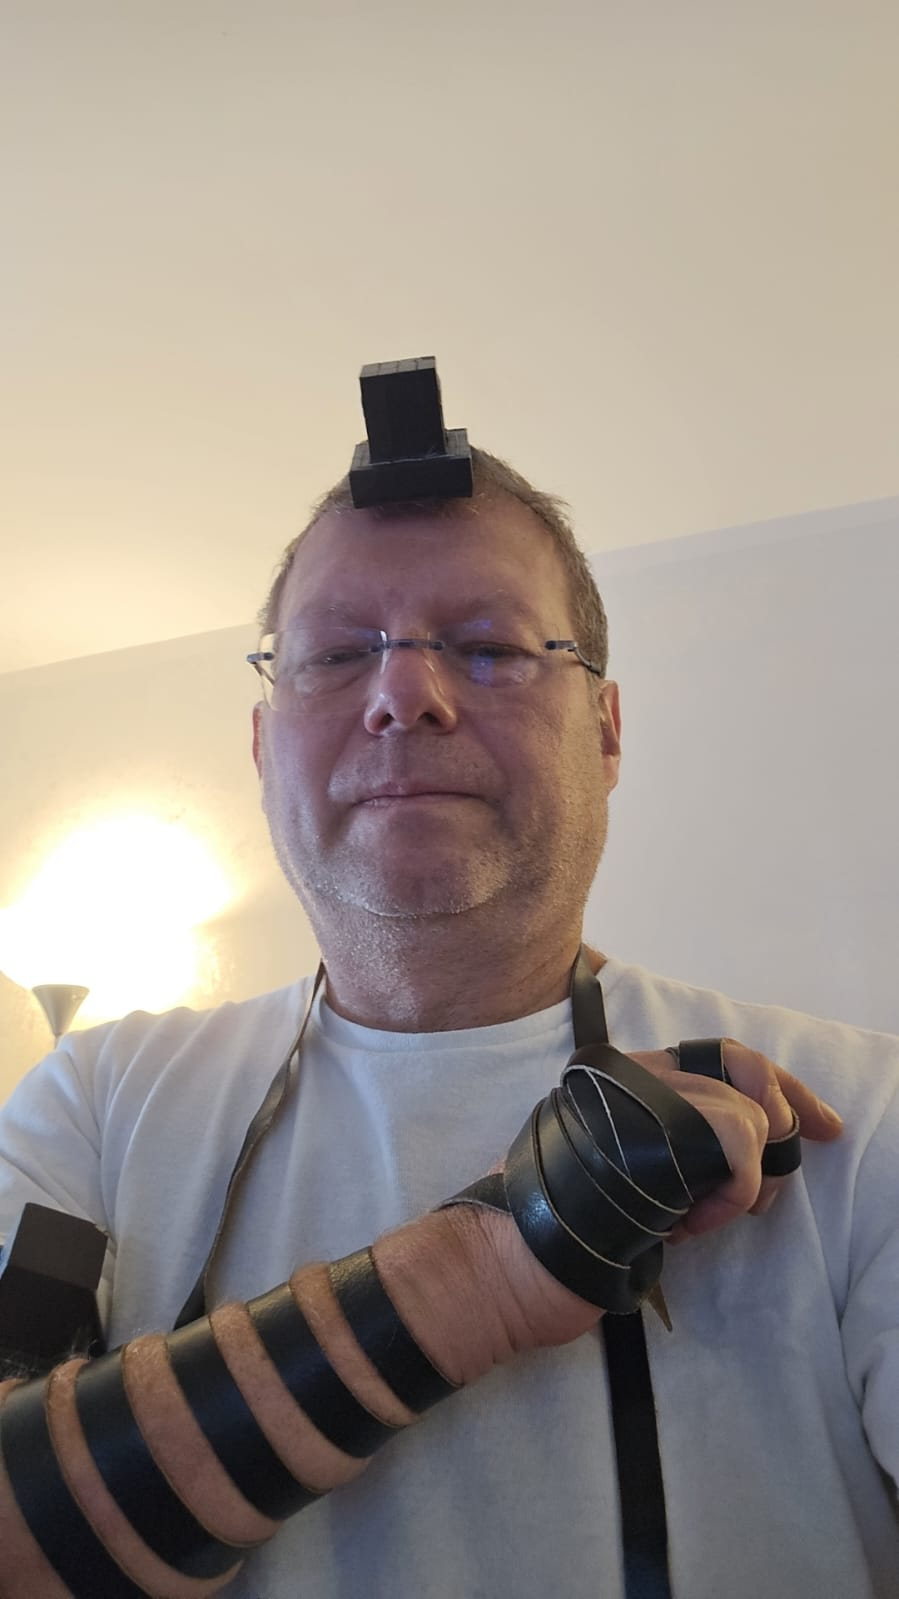tefillin: (340, 350, 475, 513), (0, 1204, 108, 1375)
